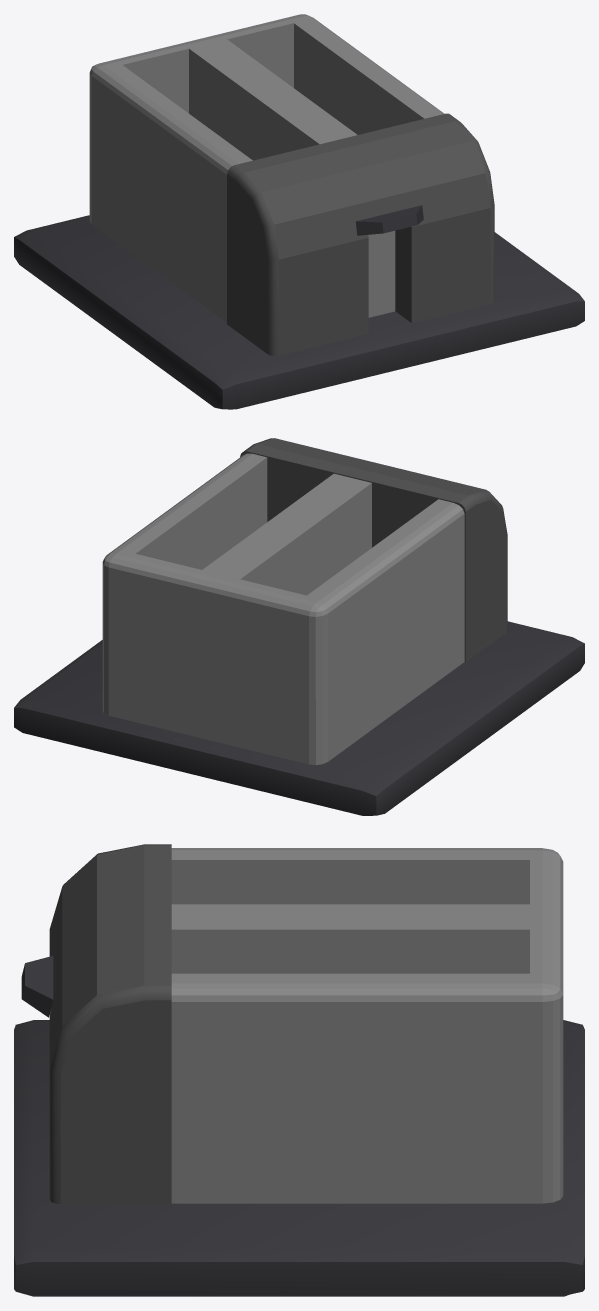
File: toaster textured.fbx
The picture shows the model from 3 angles, top to bottom: view 1: azimuth 30°, elevation 25°; view 2: azimuth 150°, elevation 25°; view 3: azimuth 270°, elevation 25°; orthographic projection. The views are drawn at different scales.
Visible parts, largest first — view 1: Front.001, Base.001, Toaster left, Toaster middle, Toaster right, Toaster back, Toaster bottom, Button.001; view 2: Toaster back, Base.001, Toaster left, Front.001, Toaster middle, Toaster right, Toaster bottom; view 3: Toaster right, Base.001, Front.001, Toaster middle, Toaster left, Toaster back, Toaster bottom, Button.001.
Boxes of the visible parts, x1,y1,x2,y2 form: Front.001: (227,113,494,355); Base.001: (14,215,584,409); Toaster left: (96,65,252,309); Toaster middle: (189,39,357,160); Toaster right: (294,19,444,134); Toaster back: (89,14,317,214); Toaster bottom: (89,209,395,322); Button.001: (355,205,423,235); Toaster back: (102,550,332,752); Base.001: (14,621,584,815); Toaster left: (307,499,464,745); Front.001: (240,438,507,662); Toaster middle: (202,473,371,595); Toaster right: (112,453,267,569); Toaster bottom: (102,649,464,765); Toaster right: (171,973,529,1185); Base.001: (14,1020,584,1296); Front.001: (49,844,171,1204); Toaster middle: (171,904,529,973); Toaster left: (171,848,529,904); Toaster back: (530,848,563,1185); Toaster bottom: (171,1179,563,1203); Button.001: (21,956,53,1017).
Bounding box in the file's own units: 659 × 334 × 657.
